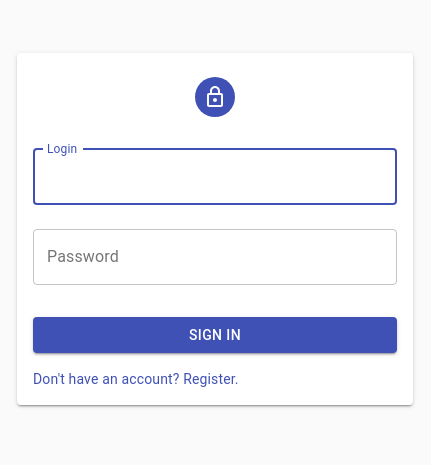
Test: Auth module render › should open register page by click on link
Click the text with test id "link-register".
click(136, 379)  # box [33,371,239,387]
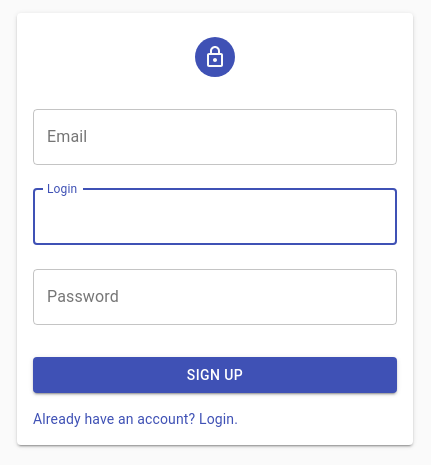
Expected: the text "Already have an account? Login." is shown, [33,411,238,427]
